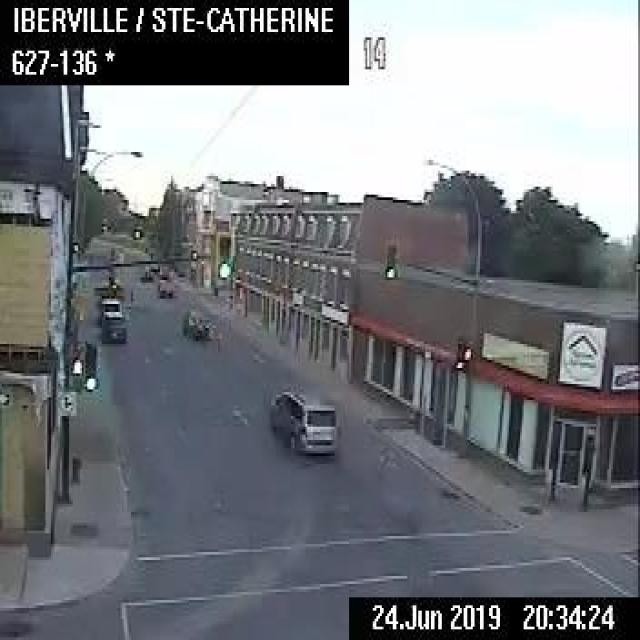vehicle: (267, 383, 337, 452), (180, 305, 203, 335), (100, 316, 126, 341), (99, 296, 123, 319), (193, 315, 216, 339), (154, 271, 173, 296), (143, 261, 159, 279)
